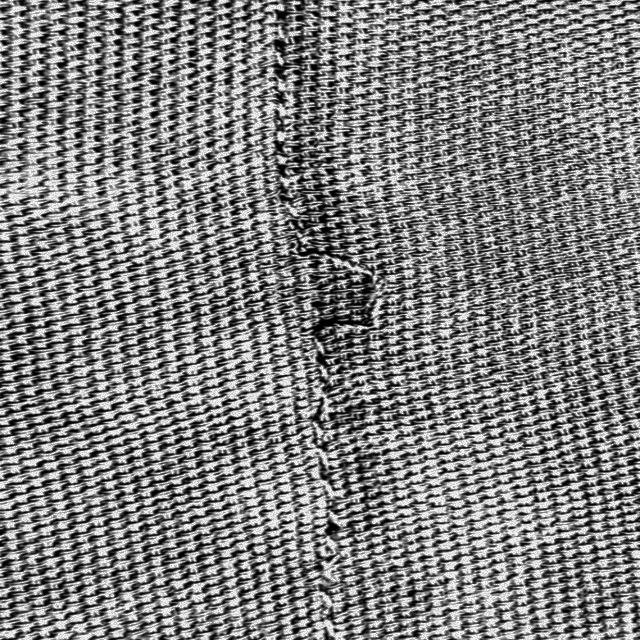Sewing_error: (284, 233, 388, 351)
